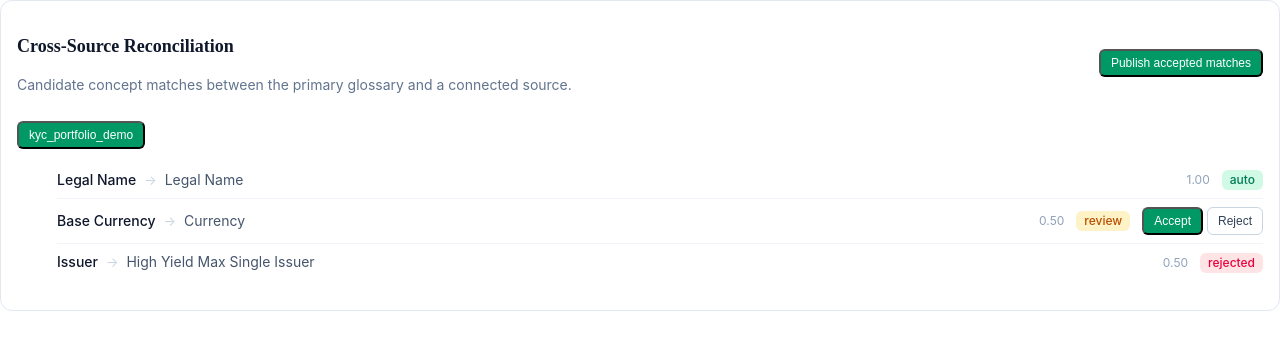
Test: publishing reports the real number of triples written
Click the button "Publish accepted matches" at point(1181, 63), box [1099,49,1263,77]
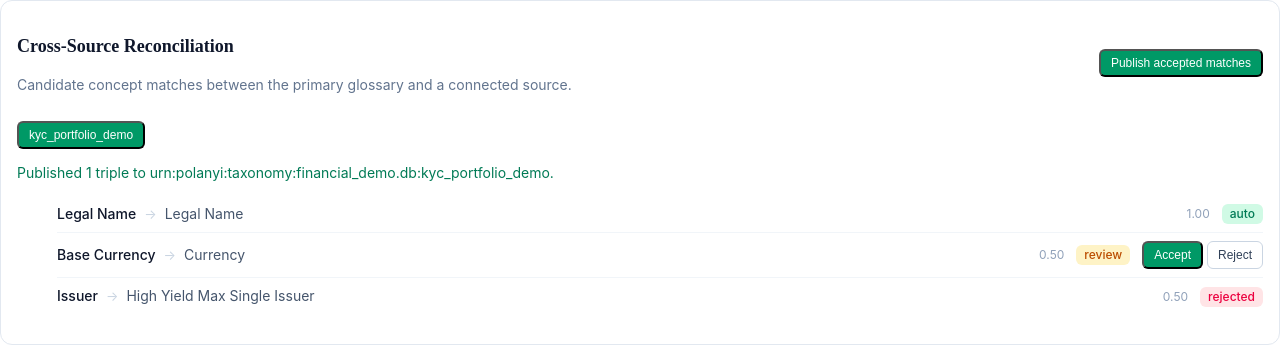
Result: the text "1 triple" is shown at [17,164,554,181]
